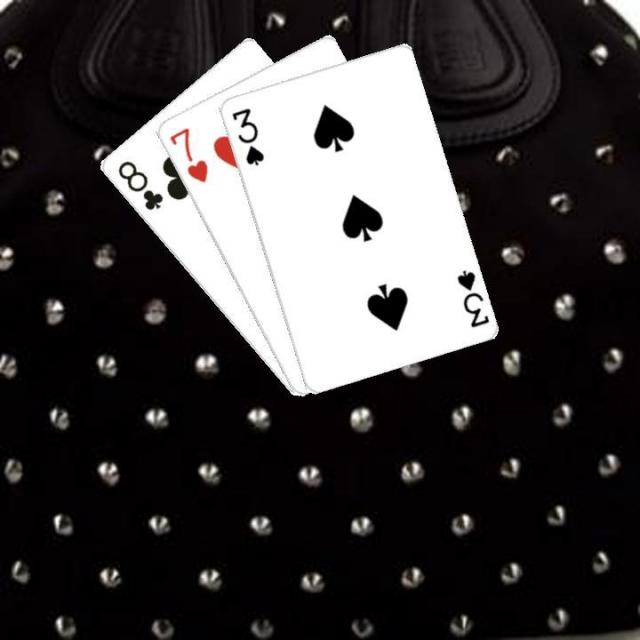3S: (227, 104, 266, 167), (452, 266, 490, 330)
7H: (164, 123, 210, 185)
8C: (113, 156, 164, 212)
